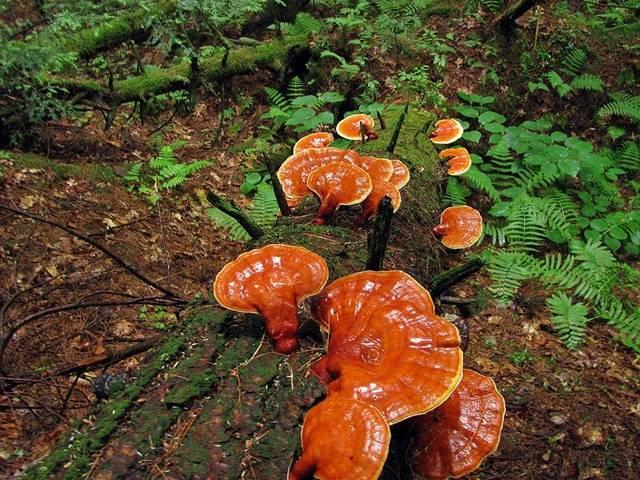Non-edible Mushroom: (299, 264, 506, 479), (275, 109, 469, 213), (212, 242, 329, 354), (431, 204, 483, 250)
